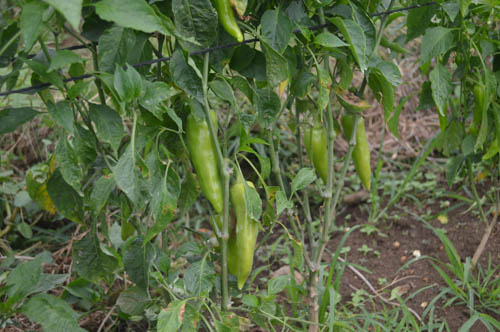ChiliPepper: (188, 111, 224, 212), (230, 182, 260, 289), (348, 114, 372, 187), (307, 127, 329, 181)
